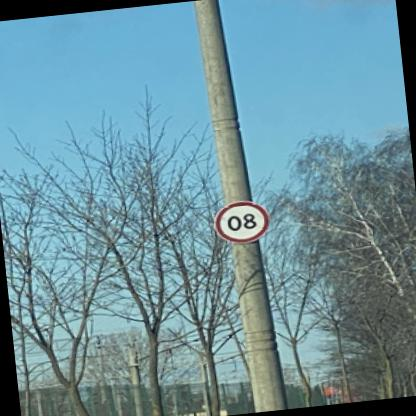speedlimit: (216, 196, 272, 244)
